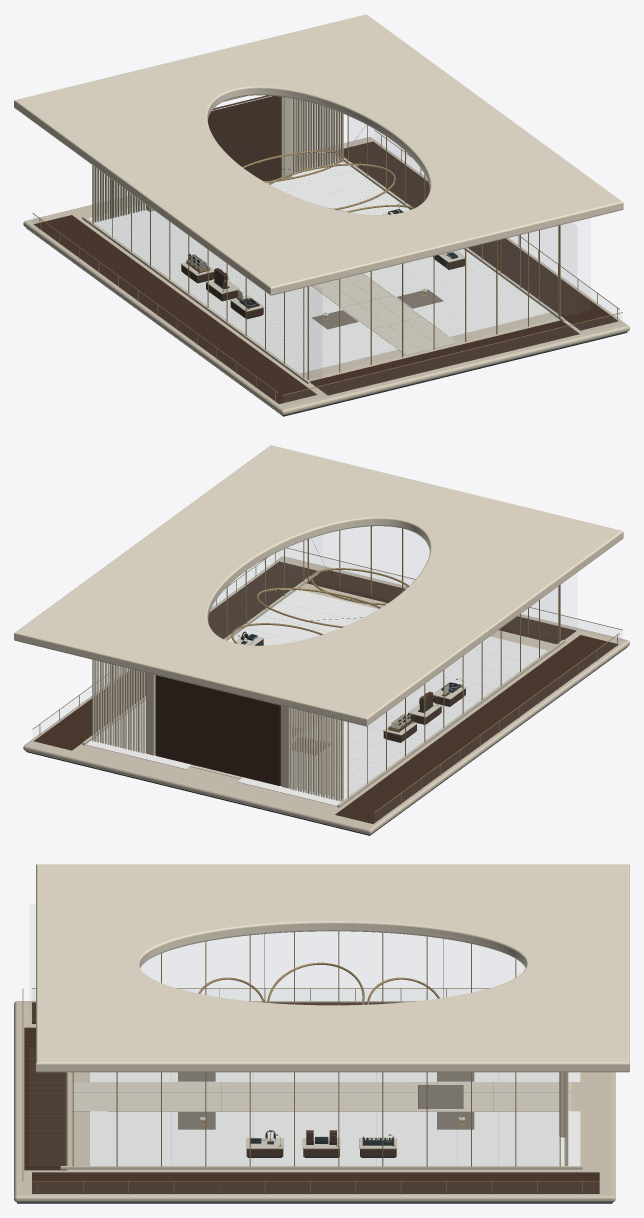
The model's file is sky-lounge.glb.
3 views of the same model, one above another, from view 1: azimuth 30°, elevation 25°; view 2: azimuth 150°, elevation 25°; view 3: azimuth 270°, elevation 25° (orthographic). The views are drawn at different scales.
Parts seen in each view (by area): view 1: sky-plaster, sky-walnut (×2), sky-parquet, sky-limestone, sky-glass, sky-bronze, sky-marble (×2), sky-carpet, sky-graphite; view 2: sky-plaster, sky-walnut (×2), sky-limestone, sky-parquet, sky-glass, sky-bronze, sky-graphite, sky-marble; view 3: sky-plaster, sky-parquet, sky-glass, sky-limestone, sky-walnut (×2), sky-marble (×2), sky-bronze, sky-carpet, sky-graphite (×2).
Part boxes in pixels (x1,y1,x2,y2): sky-plaster: (14, 14, 623, 295); sky-walnut (×2): (34, 95, 618, 403); sky-parquet: (88, 157, 549, 373); sky-limestone: (23, 96, 629, 415); sky-glass: (309, 117, 619, 390); sky-bronze: (32, 95, 622, 402); sky-marble (×2): (180, 262, 456, 355); sky-carpet: (312, 289, 443, 329); sky-graphite: (26, 127, 627, 416); sky-plaster: (14, 445, 623, 726); sky-walnut (×2): (34, 561, 618, 823); sky-limestone: (23, 556, 629, 834); sky-parquet: (85, 590, 547, 806); sky-glass: (209, 526, 619, 640); sky-bronze: (32, 526, 622, 818); sky-graphite: (26, 540, 627, 835); sky-marble: (383, 682, 466, 735); sky-plaster: (36, 864, 629, 1072); sky-parquet: (90, 1072, 580, 1165); sky-glass: (32, 932, 524, 1004); sky-limestone: (14, 1001, 615, 1202); sky-walnut (×2): (24, 1002, 599, 1193); sky-marble (×2): (72, 1082, 571, 1148); sky-bronze: (22, 931, 599, 1194); sky-carpet: (178, 1072, 474, 1129); sky-graphite (×2): (17, 934, 612, 1203).
Bounding box in the file's own units: 41.52 × 13.96 × 54.26.
